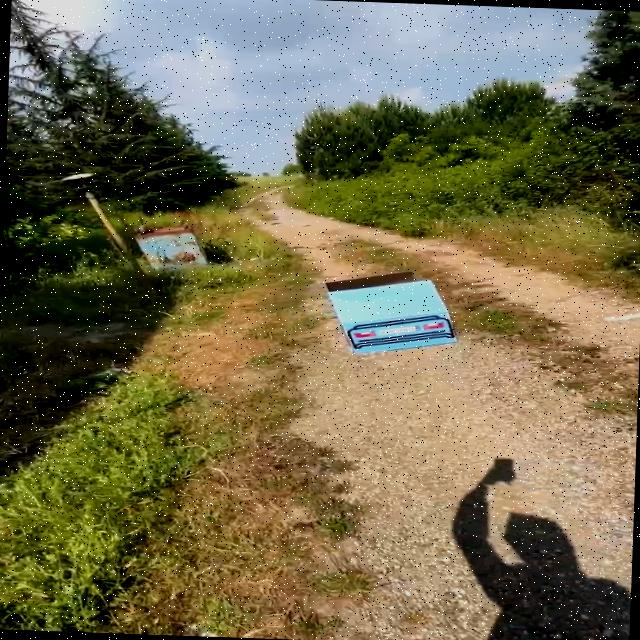blue_car: (295, 258, 466, 366)
